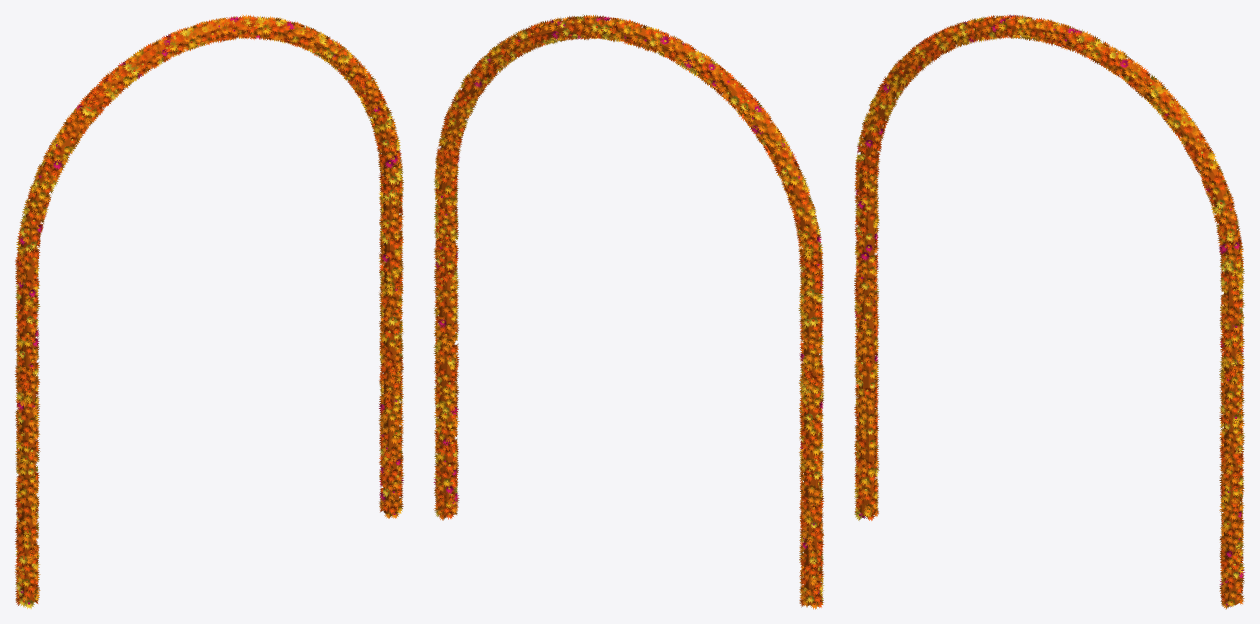
Rendered from Arco_Flores.obj.
The picture shows the model from 3 angles, left to right: view 1: azimuth 30°, elevation 25°; view 2: azimuth 150°, elevation 25°; view 3: azimuth 330°, elevation 25°; orthographic projection.
Visible parts, largest first — view 1: ArcoLow; view 2: ArcoLow; view 3: ArcoLow.
Boxes of the visible parts, x1=… form: ArcoLow: x1=14, y1=14, x2=404, y2=608; ArcoLow: x1=433, y1=14, x2=824, y2=609; ArcoLow: x1=854, y1=14, x2=1244, y2=609.
Size of the model in its own units: 8.51 by 11.35 by 0.5106.
1 material, 1 textured.
